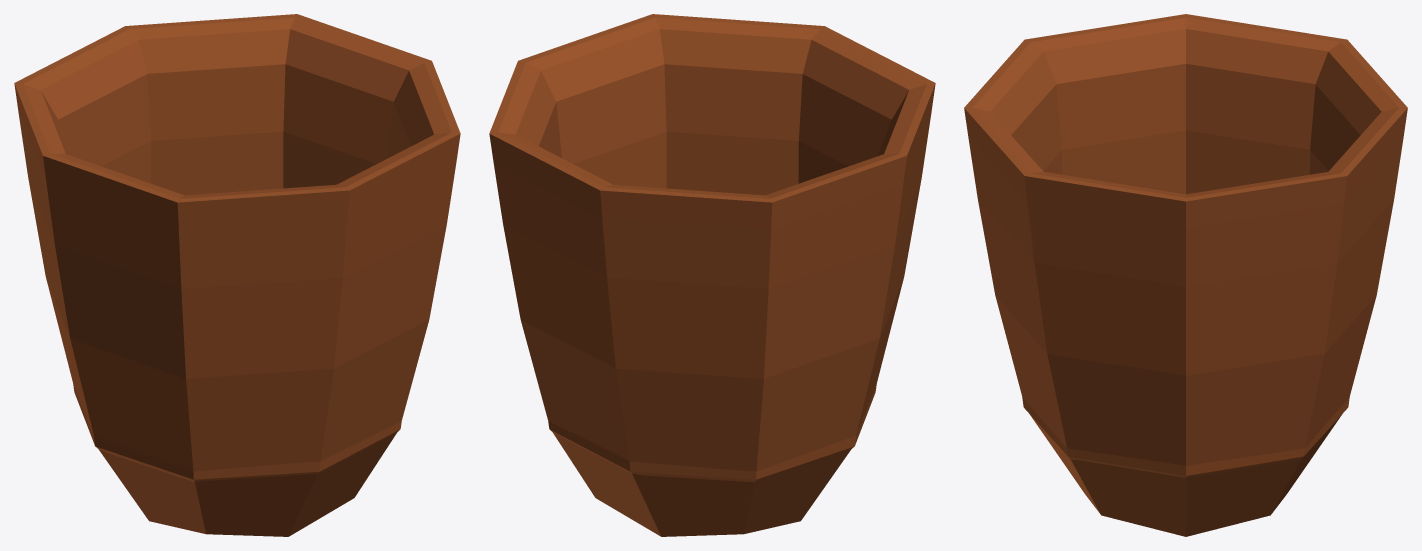
Rendered from AlhunsVaso2.fbx.
3 views of the same model, side by side, from view 1: azimuth 30°, elevation 25°; view 2: azimuth 150°, elevation 25°; view 3: azimuth 270°, elevation 25° (orthographic).
Parts seen in each view (by area): view 1: Cube.018; view 2: Cube.018; view 3: Cube.018.
Part boxes in pixels (<box>): Cube.018: <box>14,14,460,536</box>; Cube.018: <box>489,14,935,536</box>; Cube.018: <box>964,14,1407,536</box>.
Bounding box in the file's own units: 72.98 × 75.72 × 72.98.
